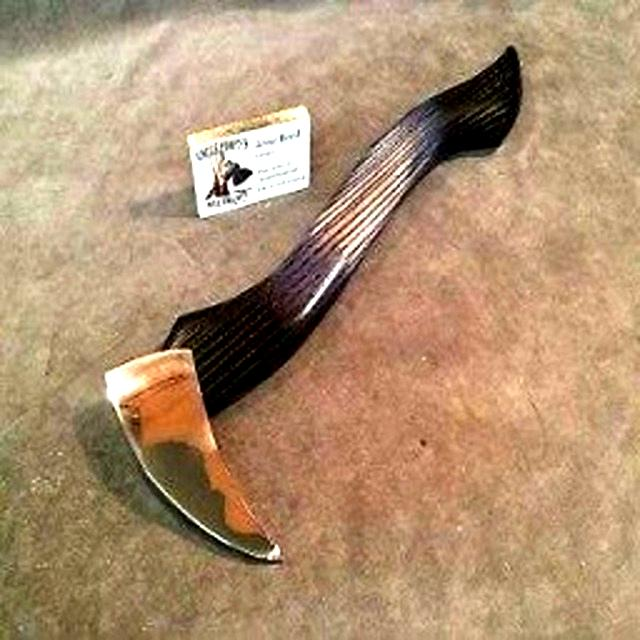ax: (82, 38, 550, 582)
